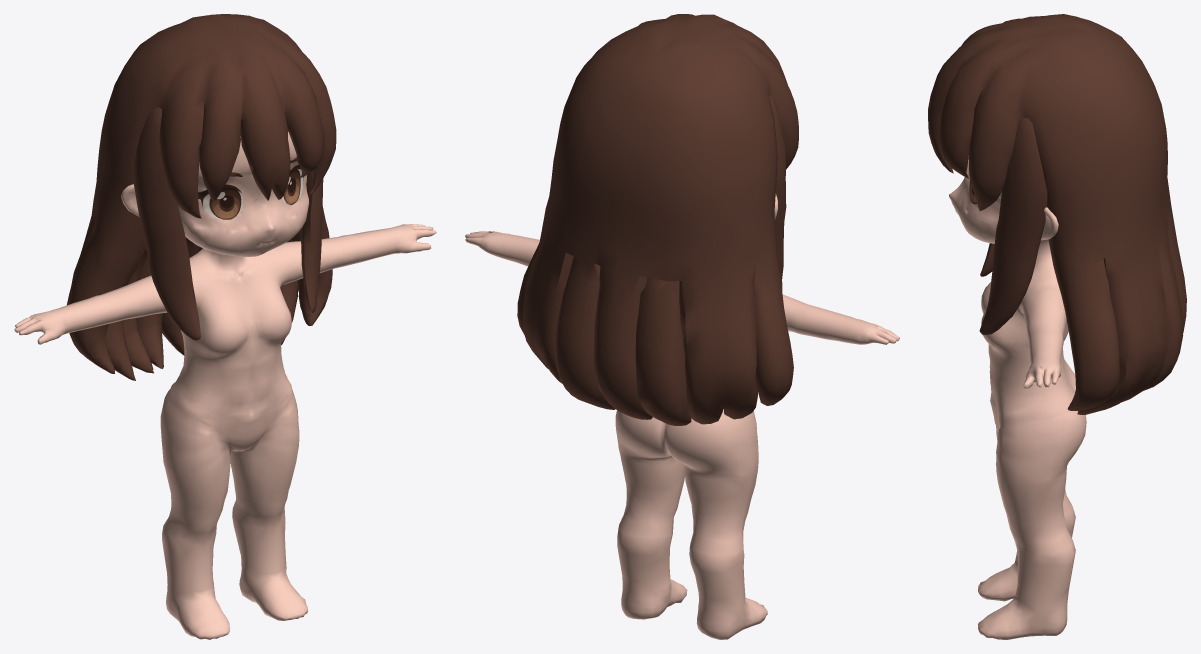
File: Eye_TextureFit_review03.fbx
3 renders of one model, left to right at view 1: azimuth 30°, elevation 25°; view 2: azimuth 150°, elevation 25°; view 3: azimuth 270°, elevation 25°, orthographic. The views are drawn at different scales.
Visible parts, largest first — view 1: Body_Symmetric_From_PositiveX, Hair_Original_00, Hair_Original_02, Hair_Original_01, Hair_Original_03, Eye_TextureFit_R; view 2: Hair_Original_00, Body_Symmetric_From_PositiveX, Hair_Original_03, Hair_Original_02; view 3: Hair_Original_00, Body_Symmetric_From_PositiveX, Hair_Original_01.
Part boxes in pixels (x1,y1,x2,y2): Body_Symmetric_From_PositiveX: [14, 132, 436, 639]; Hair_Original_00: [67, 14, 336, 380]; Hair_Original_02: [133, 106, 200, 340]; Hair_Original_01: [300, 170, 323, 312]; Hair_Original_03: [137, 257, 163, 368]; Eye_TextureFit_R: [198, 184, 243, 219]; Hair_Original_00: [517, 14, 798, 424]; Body_Symmetric_From_PositiveX: [465, 193, 899, 639]; Hair_Original_03: [635, 277, 691, 425]; Hair_Original_02: [769, 95, 786, 280]; Hair_Original_00: [928, 14, 1186, 414]; Body_Symmetric_From_PositiveX: [949, 155, 1086, 639]; Hair_Original_01: [979, 118, 1047, 335].
Bounding box in the file's own units: 0.7578 × 1 × 0.4014.
3 materials, 1 textured.
